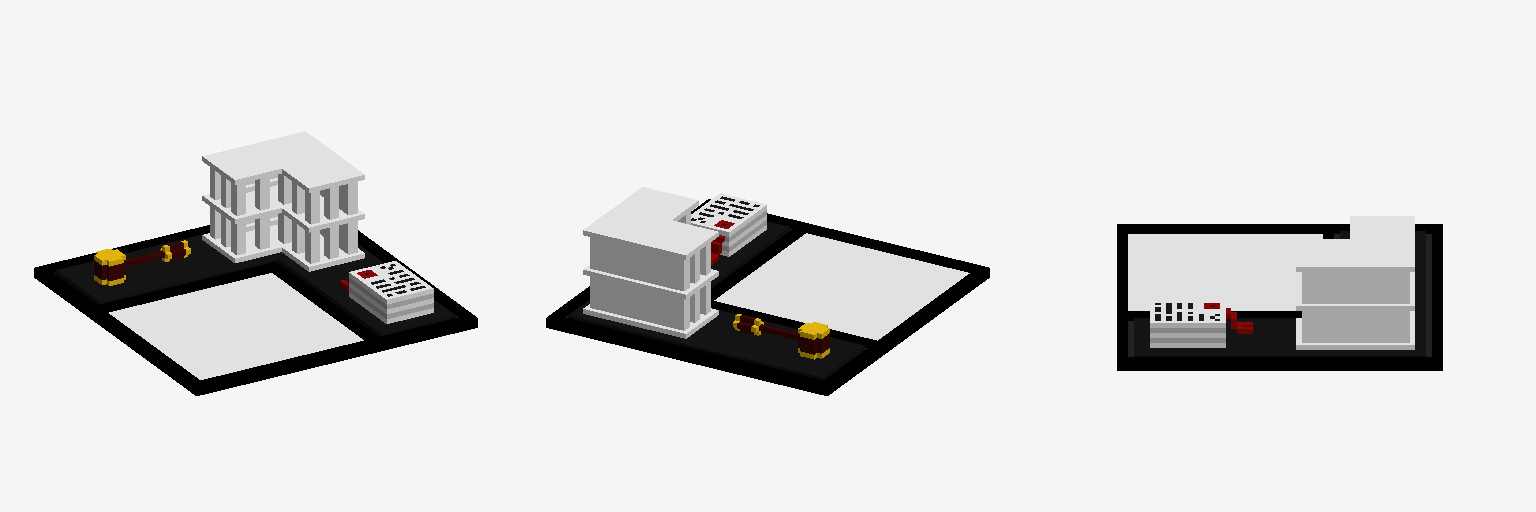
The picture shows the model from 3 angles: view 1: azimuth 30°, elevation 25°; view 2: azimuth 150°, elevation 25°; view 3: azimuth 270°, elevation 25°; orthographic projection.
Visible parts, largest first — view 1: object 1; view 2: object 1; view 3: object 1.
Part boxes in pixels (x1,y1,x2,y2): object 1: (34, 131, 477, 395); object 1: (546, 187, 989, 395); object 1: (1117, 216, 1442, 370).
Bounding box in the file's own units: 6 × 1.9 × 6.
Materials: 1 (1 with a texture image).